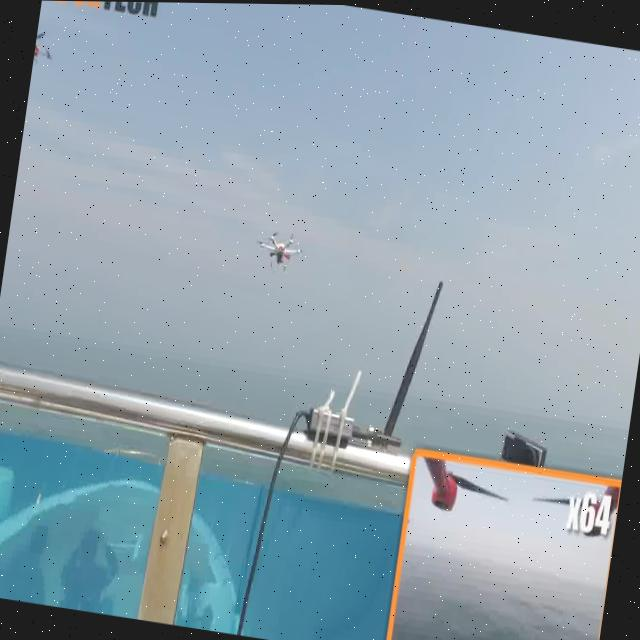drone: (250, 220, 322, 283)
